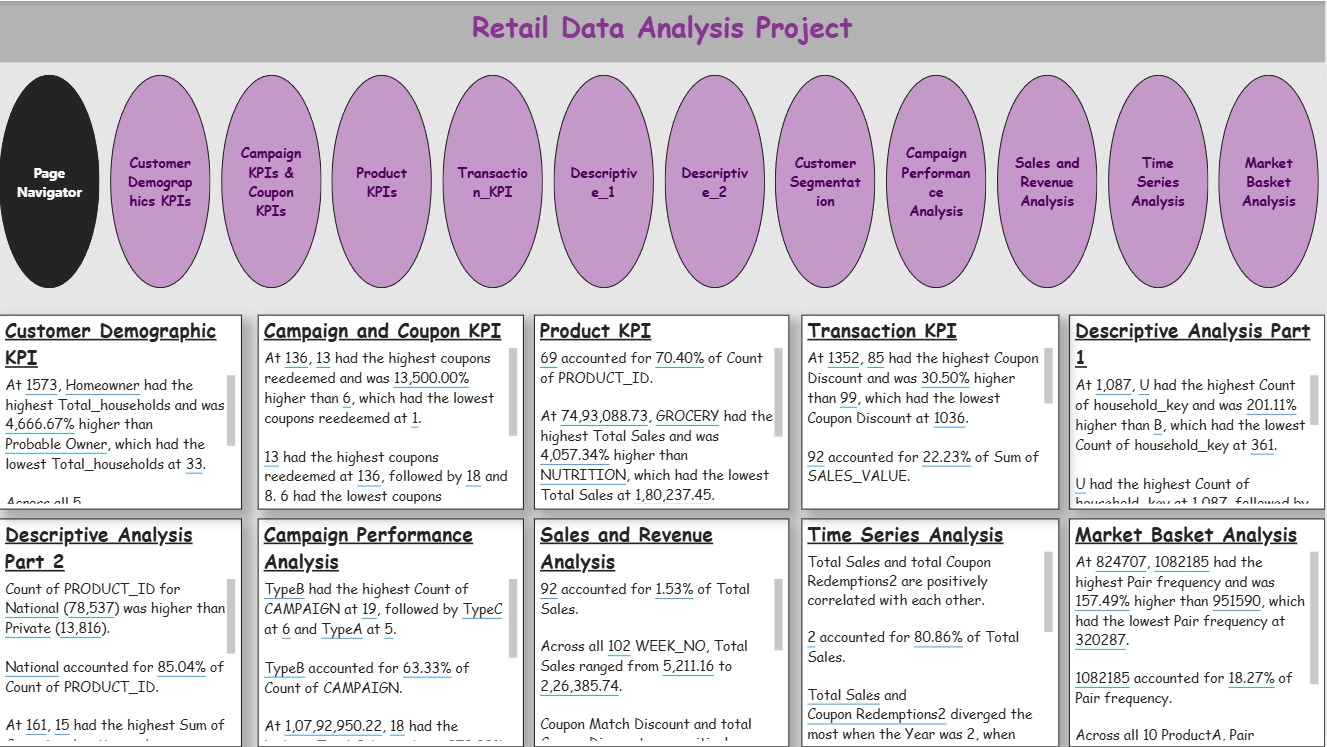

The page's visual inventory and layout, read from the dashboard file:
{"tool":"powerbi","page":{"name":"Page Navigator","canvas":[1280,720],"ordinal":0},"visuals":[{"type":"pageNavigator","box":[0,70.9,1280.3,206.7],"z":0},{"type":"textbox","box":[0,0,1280,59.1],"z":1000},{"type":"textbox","title":"Descriptive Analysis Part 1","box":[1032.7,302.8,247.3,188.2],"z":2000},{"type":"textbox","title":"Descriptive Analysis Part 2","box":[0,499.5,234,220.8],"z":3000},{"type":"textbox","title":"Campaign Performance Analysis","box":[249.7,499.5,257,220.8],"z":4000},{"type":"textbox","title":"Sales and Revenue Analysis","box":[516.4,499.5,246.1,220.8],"z":5000},{"type":"textbox","title":"Time Series Analysis","box":[774.5,499.5,248.5,220.8],"z":6000},{"type":"textbox","title":"Market Basket Analysis","box":[1032.7,499.5,247.3,220.8],"z":7000},{"type":"textbox","title":"Customer Demographic KPI","box":[0,302.8,234,188.2],"z":8000},{"type":"textbox","title":"Campaign and Coupon KPI","box":[249.7,302.8,257,188.2],"z":9000},{"type":"textbox","title":"Product KPI","box":[516.4,302.8,246.1,188.2],"z":10000},{"type":"textbox","title":"Transaction KPI","box":[774.5,302.8,248.5,188.2],"z":11000}]}

Visuals, with their boxes in screenshot pixels (x1, y1, x2, y2), scaled from the page's 1280x720 canvas onto the 1327x747 screenshot:
pageNavigator: <region>0, 74, 1326, 288</region>
textbox: <region>0, 0, 1326, 61</region>
"Descriptive Analysis Part 1" textbox: <region>1071, 314, 1326, 509</region>
"Descriptive Analysis Part 2" textbox: <region>0, 518, 243, 746</region>
"Campaign Performance Analysis" textbox: <region>259, 518, 525, 746</region>
"Sales and Revenue Analysis" textbox: <region>535, 518, 790, 746</region>
"Time Series Analysis" textbox: <region>803, 518, 1061, 746</region>
"Market Basket Analysis" textbox: <region>1071, 518, 1326, 746</region>
"Customer Demographic KPI" textbox: <region>0, 314, 243, 509</region>
"Campaign and Coupon KPI" textbox: <region>259, 314, 525, 509</region>
"Product KPI" textbox: <region>535, 314, 790, 509</region>
"Transaction KPI" textbox: <region>803, 314, 1061, 509</region>
